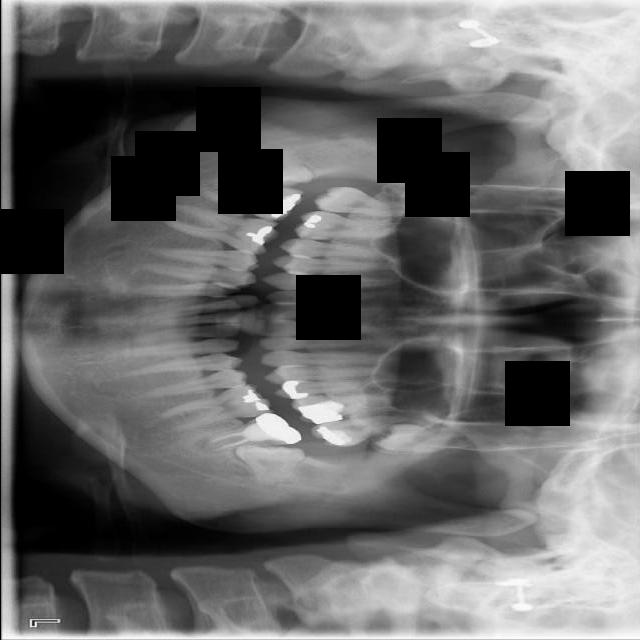52: (252, 176, 309, 233), (248, 404, 305, 456), (225, 373, 276, 428), (306, 412, 363, 461), (287, 196, 337, 249), (234, 211, 284, 264), (290, 392, 337, 426), (274, 378, 307, 400)
73: (199, 416, 281, 455), (75, 560, 90, 568)
BioHorizons Implant: (307, 408, 418, 453)
BioLife Implant: (373, 420, 470, 461)
Biomet 3i Implant: (233, 445, 306, 485)
Blue Sky Bio Implant: (197, 409, 301, 455)
Caries: (312, 183, 423, 221)
Implant: (194, 176, 305, 226)
Keystone Dental Implant: (235, 142, 316, 194)
